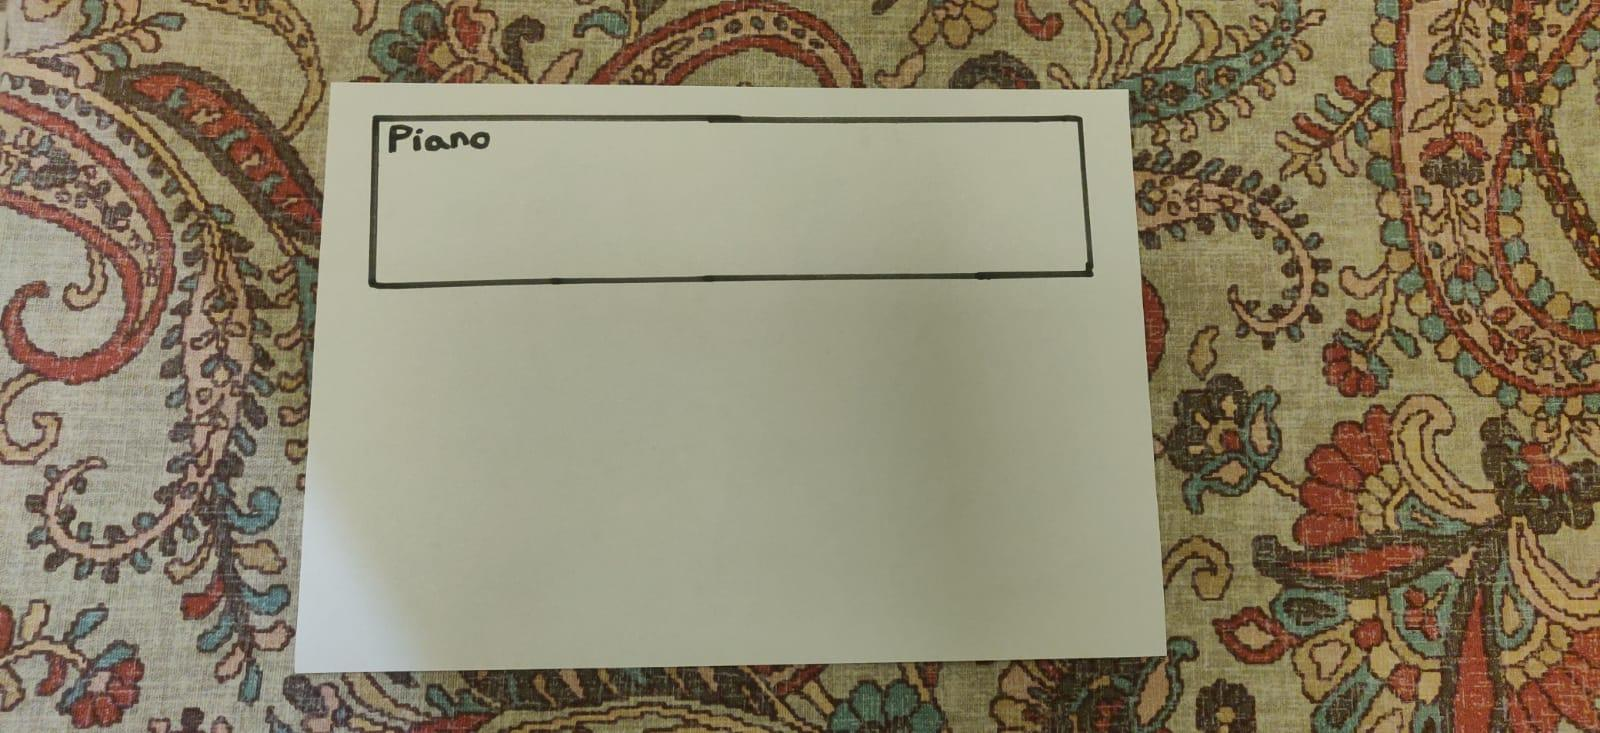paper-piano: (377, 118, 1093, 275)
